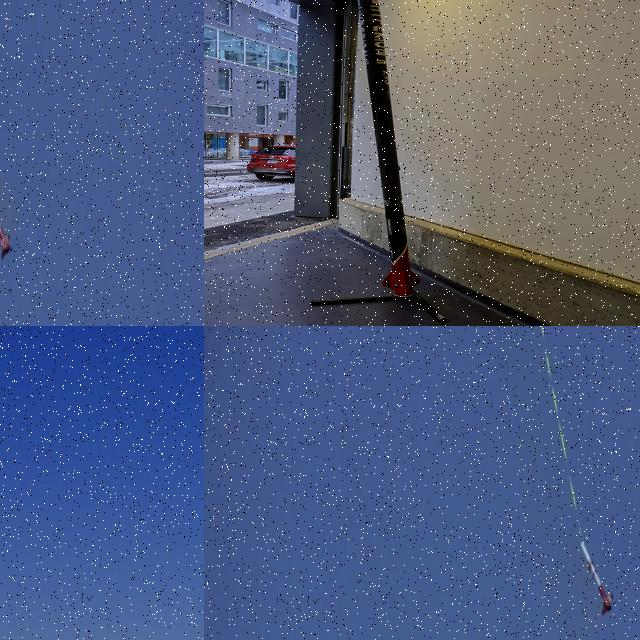Rocket: (357, 0, 421, 297), (580, 541, 613, 616), (0, 180, 13, 261)
